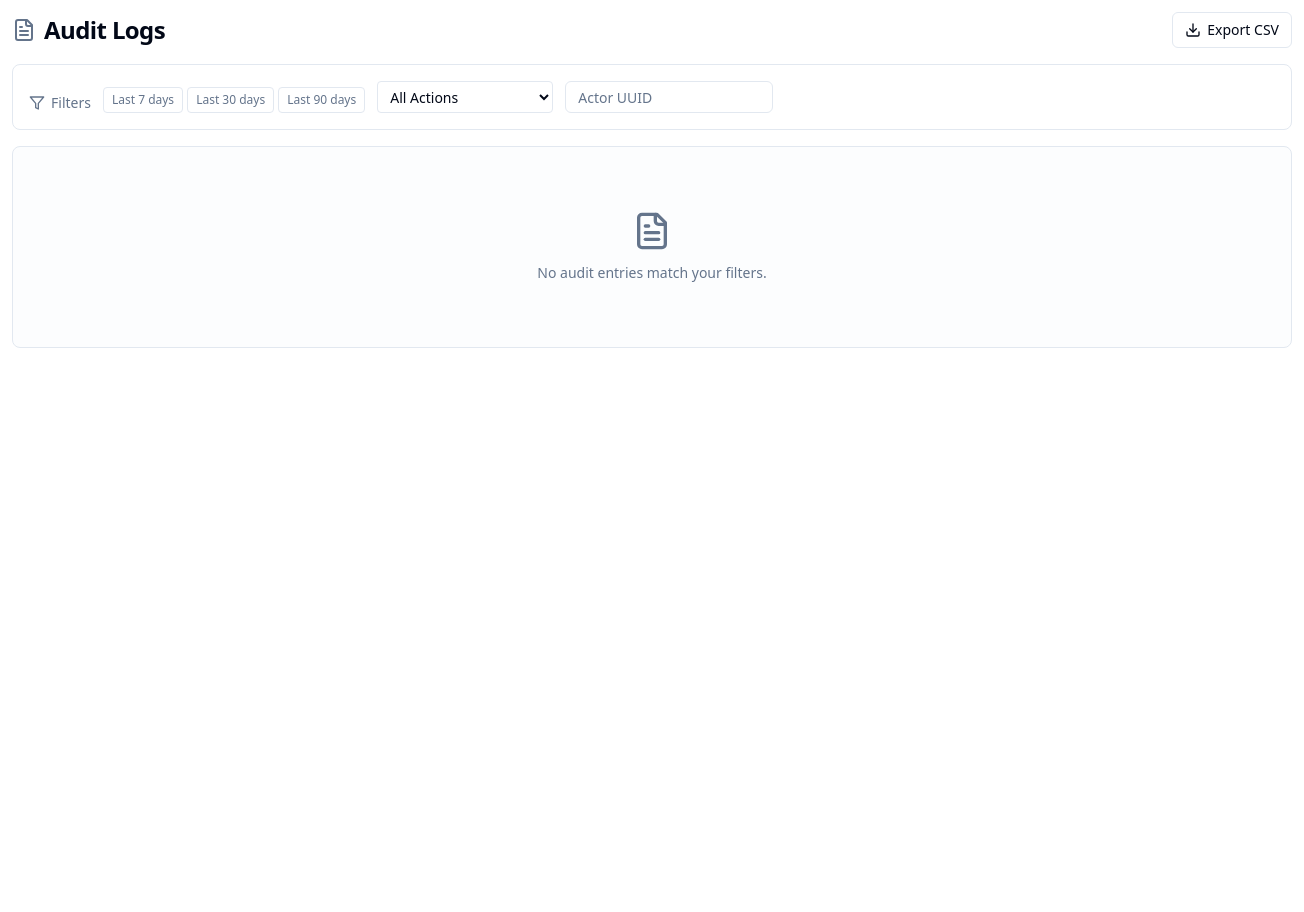
it: Export CSV (AC6) › shows error toast when export API fails
Click the button with test id "export-btn" at x=1232, y=30, box [1172,12,1292,48]
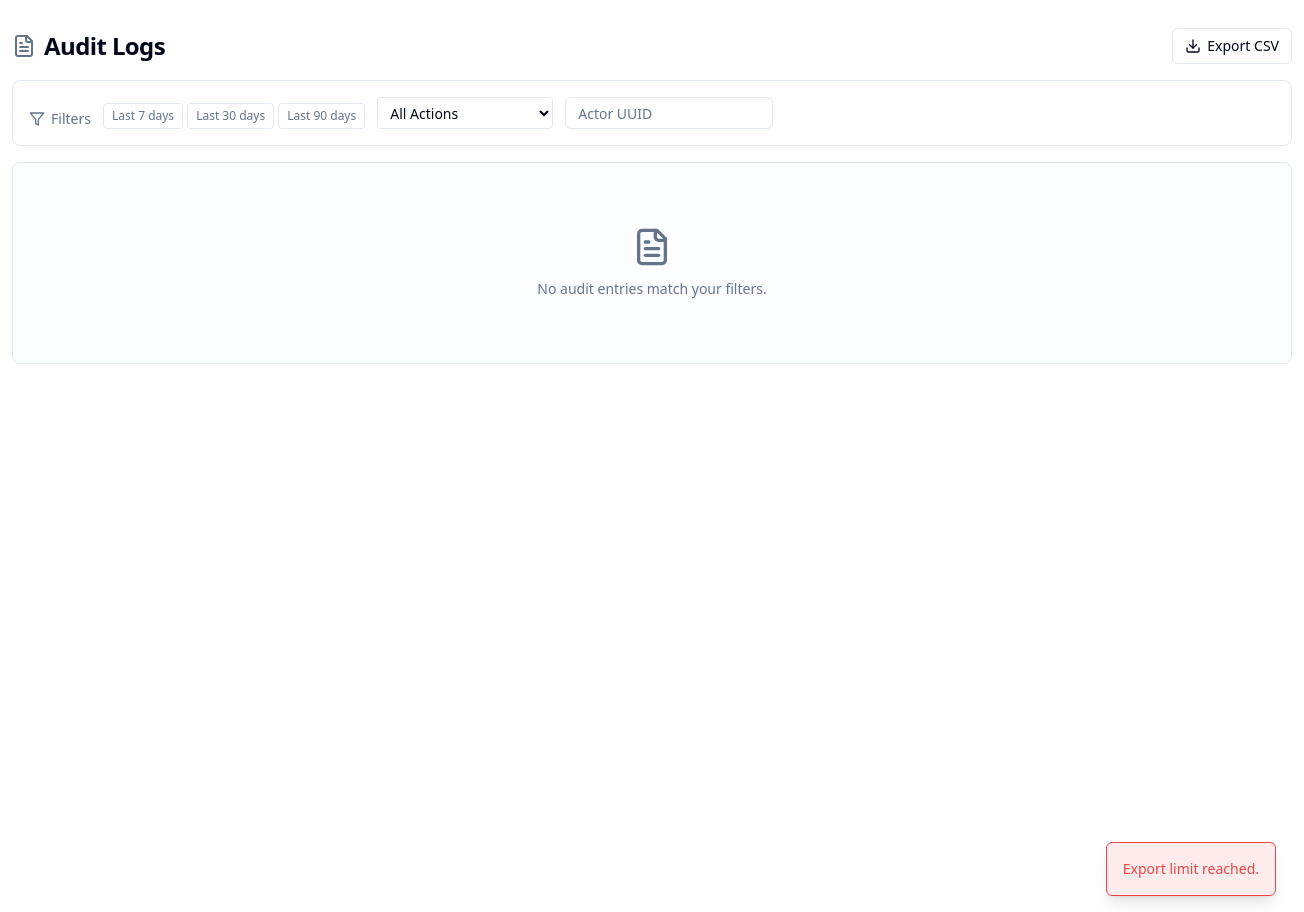
Check: the text "Export limit reached." is shown, box [1106,842,1276,896]
Check: the text with test id "toast-error" shows "Export limit", box [1123,859,1259,878]
